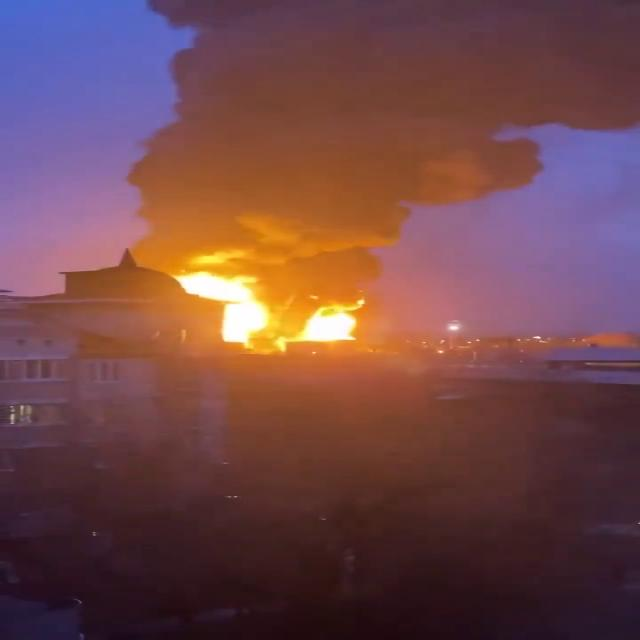Fire: (181, 278, 266, 344), (303, 302, 363, 344)
Smoke: (128, 0, 640, 307)
